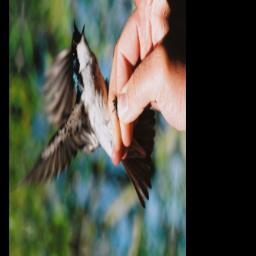Swallow: (13, 0, 162, 244)
